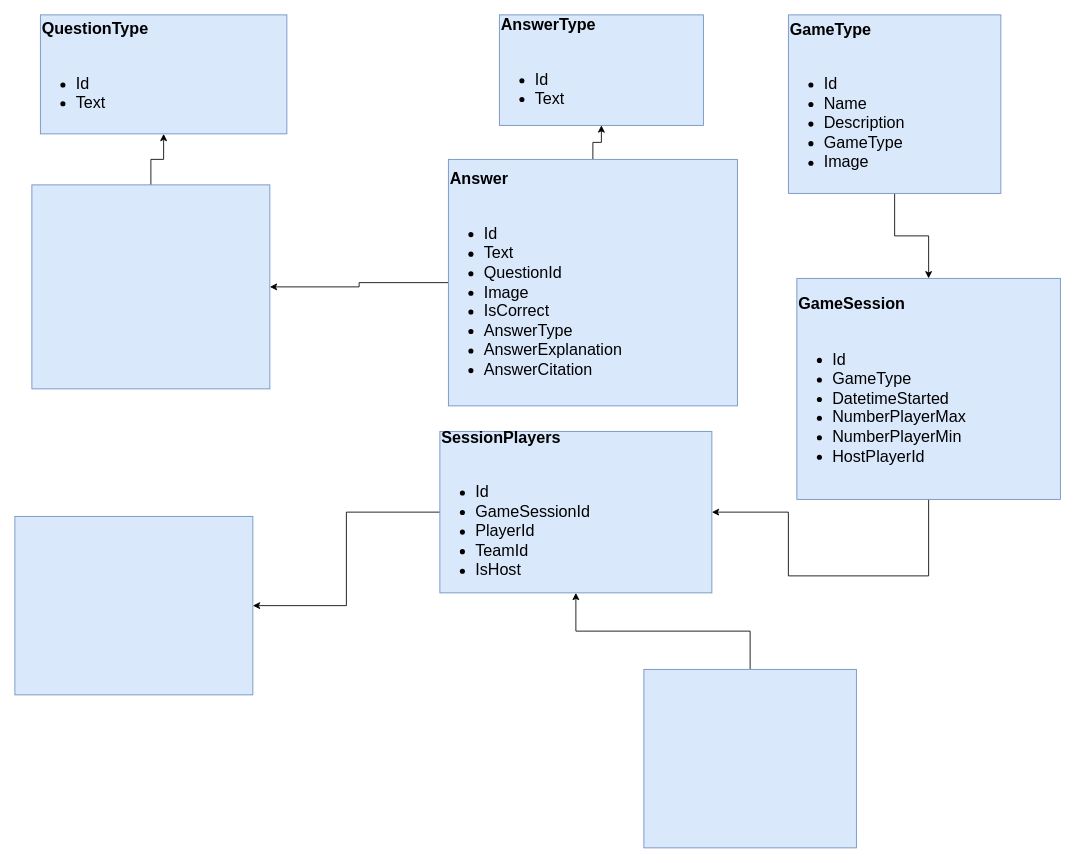
Some shapes in this 1075 by 863 pixel diagram are drawn without their labels. The shapes that lost their labels are listed below. From the top down, each one's centre as x and y in pixels, then its label:
At (150,286): "Question Id Text Category Image Value Question Type".
At (133,605): "Player Id PlayerName SocialID Status".
At (749,758): "Team Id TeamName TeamColor TeamLogo".
